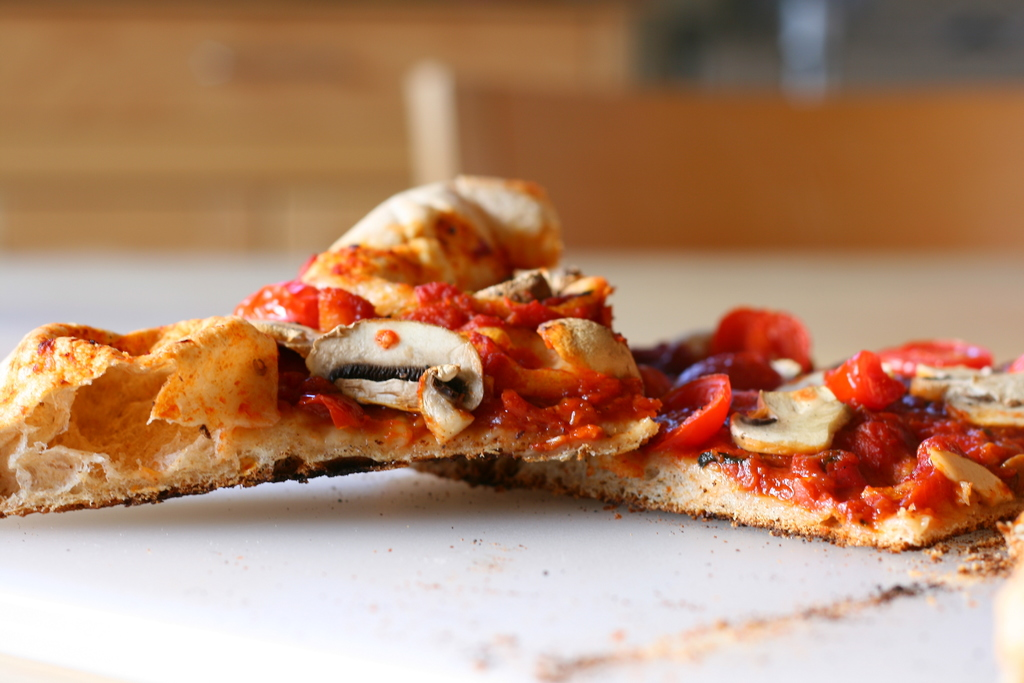Pizza: (0, 176, 619, 521), (401, 306, 1023, 548)
